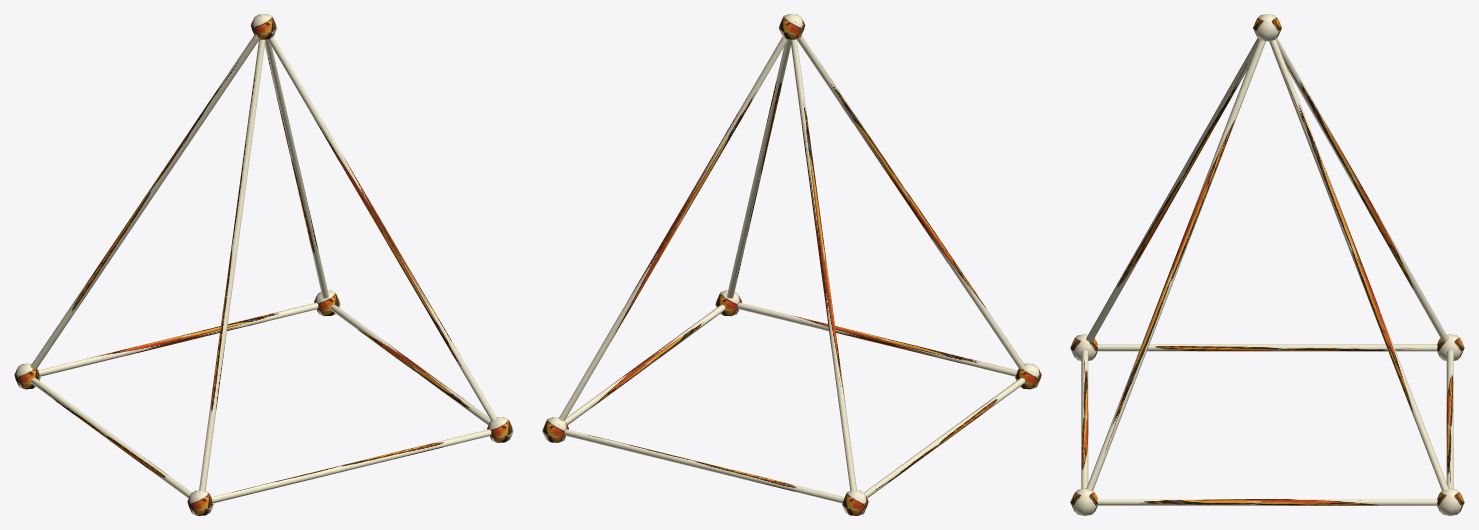
File: sanj.glb
The picture shows the model from 3 angles, left to right: view 1: azimuth 30°, elevation 25°; view 2: azimuth 150°, elevation 25°; view 3: azimuth 270°, elevation 25°; orthographic projection. The views are drawn at different scales.
Parts seen in each view (by area): view 1: 金字塔; view 2: 金字塔; view 3: 金字塔.
Part boxes in pixels (left/top/right/bottom): 金字塔: left=14, top=14, right=513, bottom=515; 金字塔: left=542, top=14, right=1041, bottom=515; 金字塔: left=1070, top=14, right=1464, bottom=515.
Size of the model in its own units: 1.08 by 1.28 by 1.08.
1 material, 1 textured.
